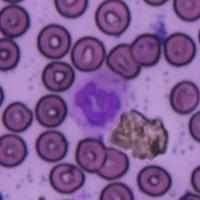N: (68, 68, 133, 136)
